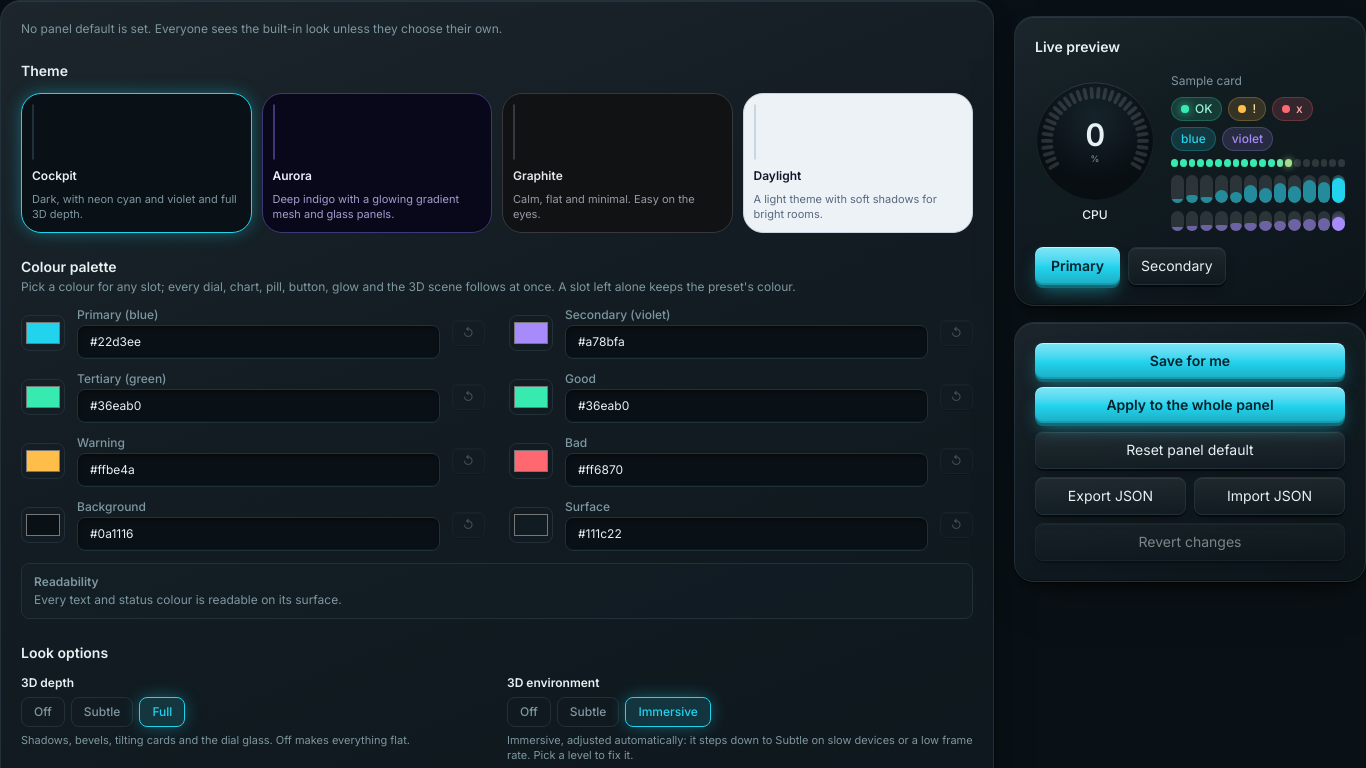
Test: Theme page › reverts every change to what was in force when the page opened
The image size is (1366, 768).
expect the button "Revert changes" is disabled: met, box x1=1035 y1=523 x2=1345 y2=561
Click the radio button labelled "Daylight A light theme with soft shadows for bright rooms.": point(858, 163) x1=742 y1=93 x2=973 y2=233
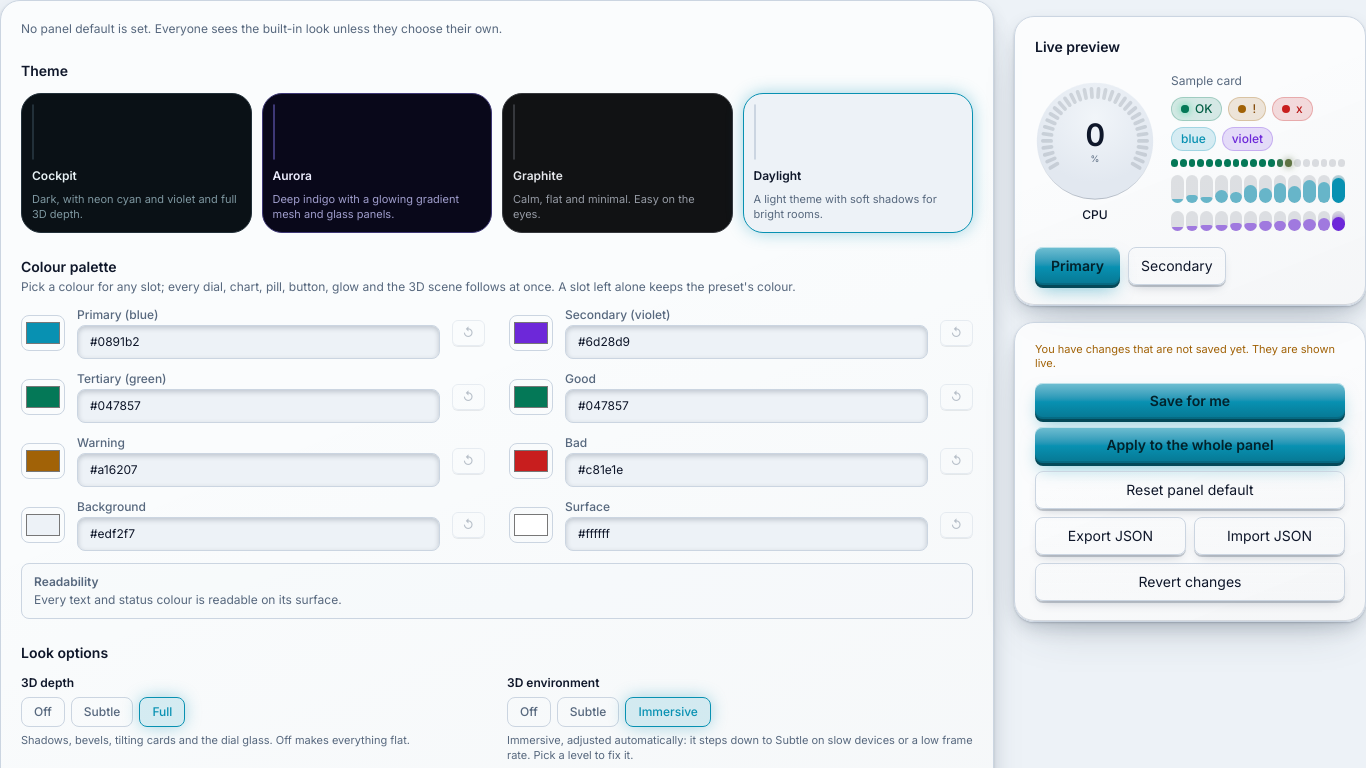
In the colour field named "Pick the colour for Primary (blue)": point(43, 333) x1=21 y1=315 x2=65 y2=351, type "#ff0000"
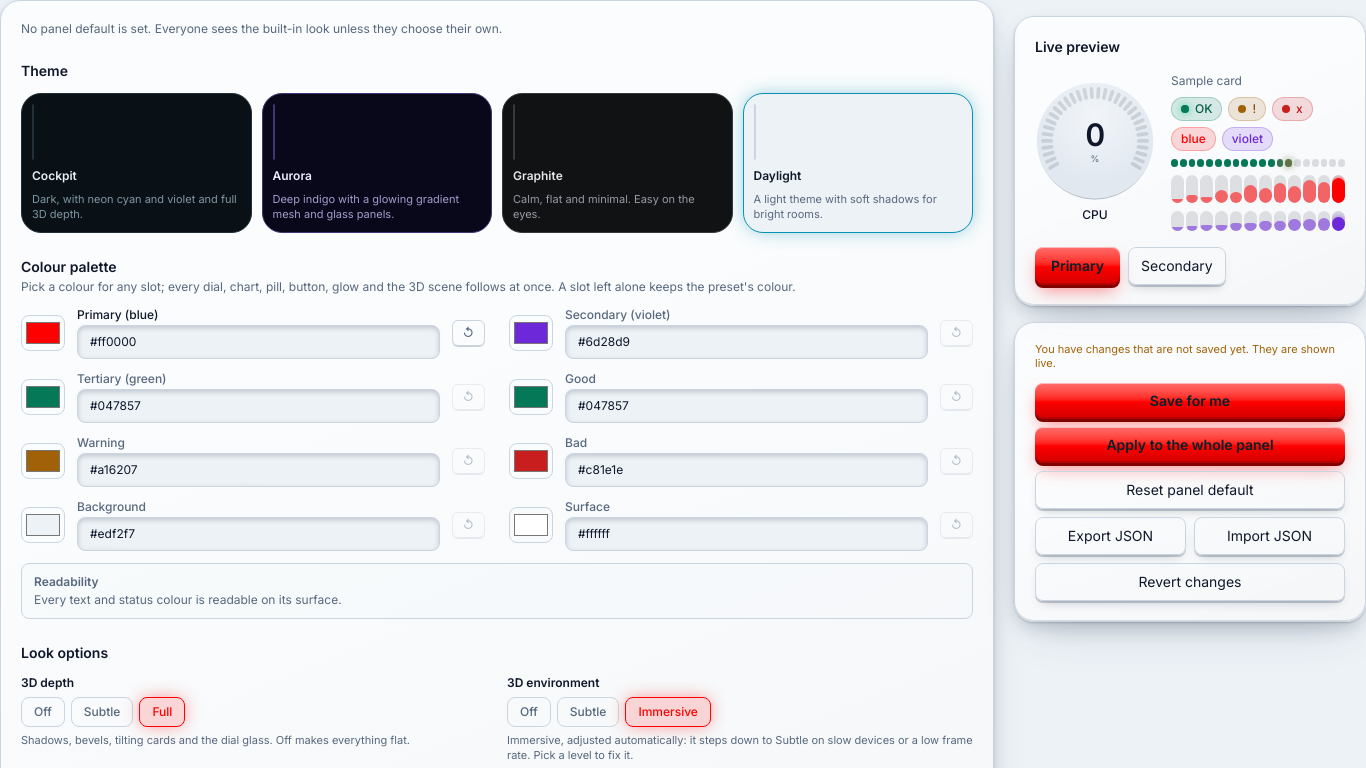
expect the text with test id "unsaved" is shown: met, box x1=1035 y1=343 x2=1345 y2=370
Click the button "Revert changes": point(1190, 582) x1=1035 y1=562 x2=1345 y2=600
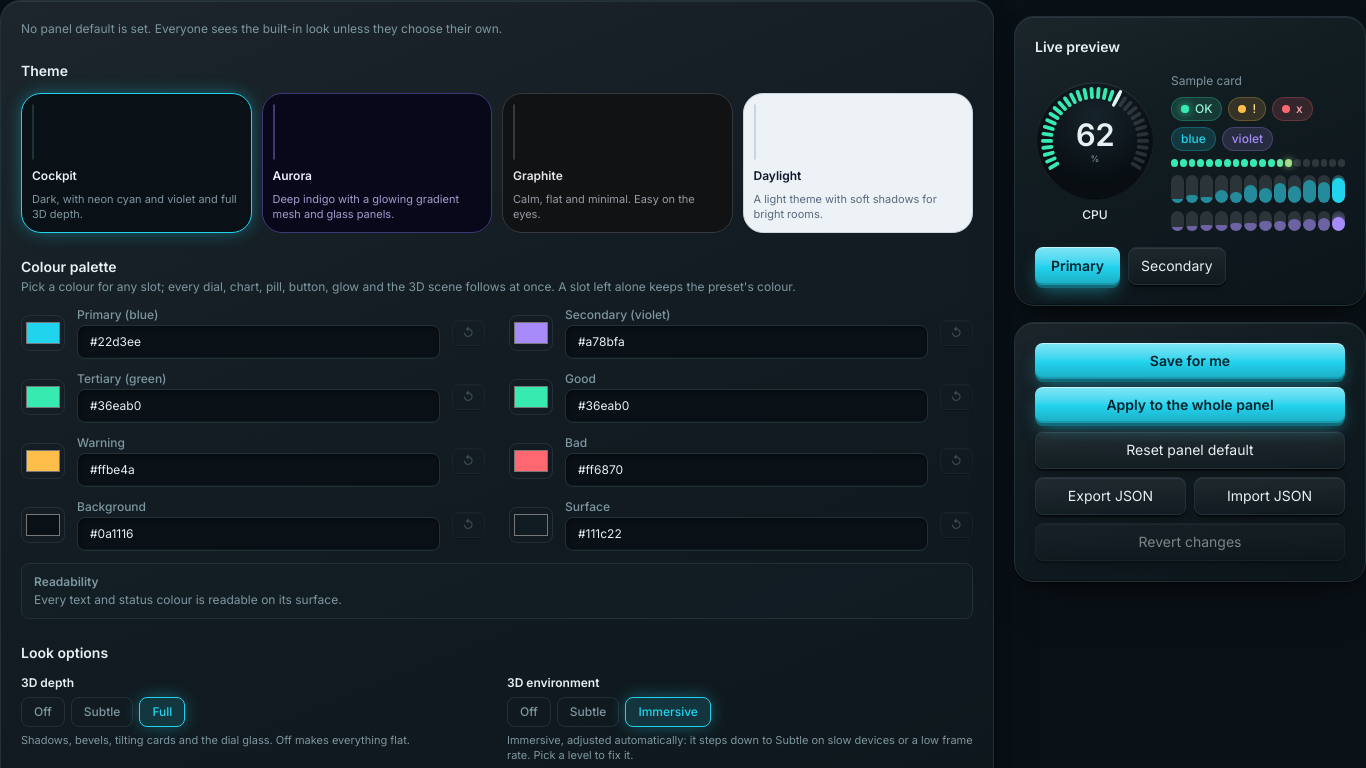
expect the text with test id "unsaved" is gone: met
